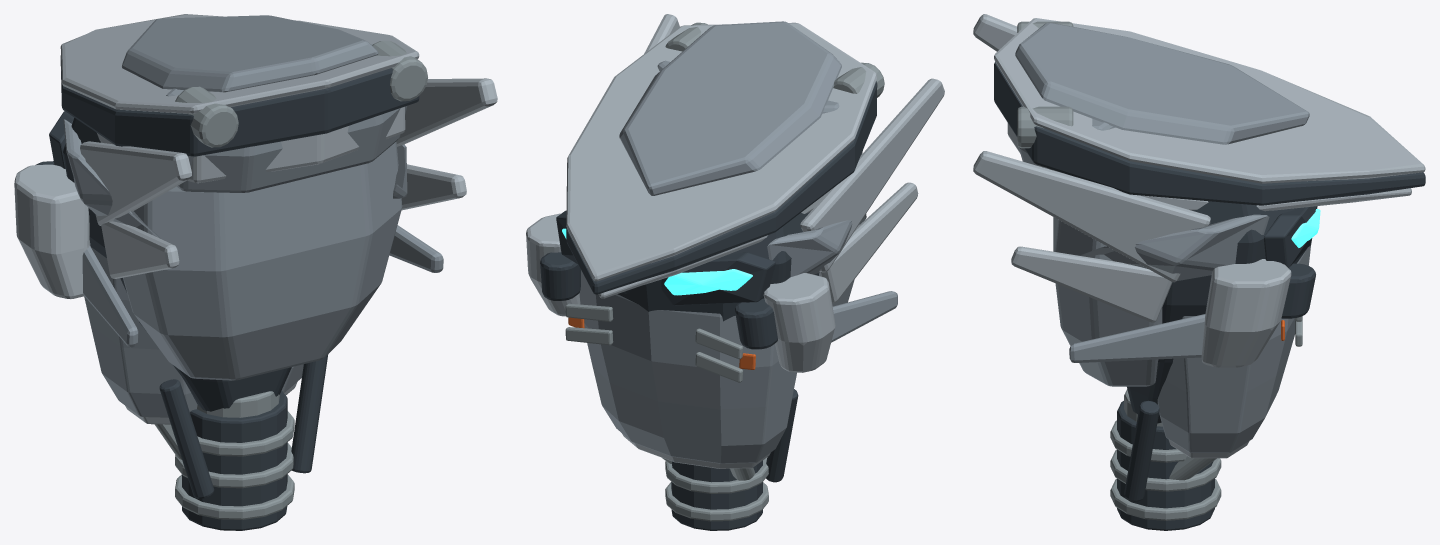
Rendered from head_hero.glb.
3 views of the same model, side by side, from view 1: azimuth 30°, elevation 25°; view 2: azimuth 150°, elevation 25°; view 3: azimuth 270°, elevation 25° (orthographic). The views are drawn at different scales.
Parts seen in each view (by area): view 1: Head_hero; view 2: Head_hero; view 3: Head_hero.
Part boxes in pixels (box(x1,y1,x2,y2)): Head_hero: box(14, 14, 497, 530); Head_hero: box(526, 14, 944, 530); Head_hero: box(973, 14, 1425, 530).
Bounding box in the file's own units: 0.4505 × 0.6484 × 0.5682.
